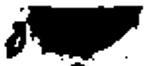Basket: (5, 3, 143, 63)
